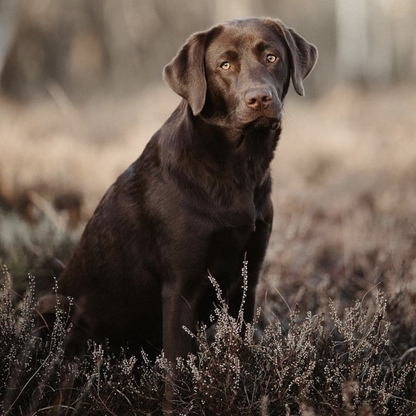labrado: (49, 13, 322, 377)
